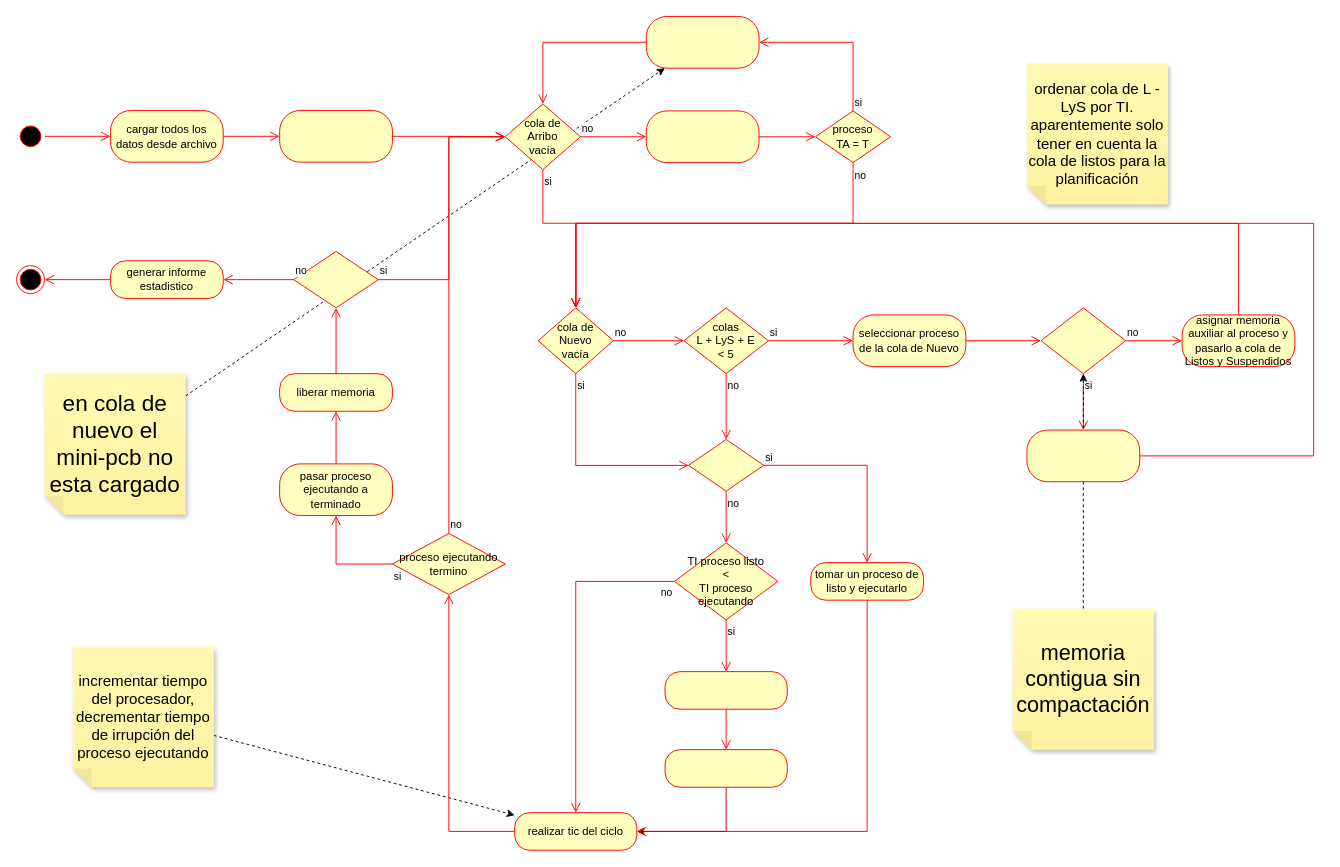
Some shapes in this 1340 by 867 pixel diagram are drawn without their labels. The centre of each missing label's shape, as x and y in pixels:
"asignar memoria principal al proceso y pasarlo a cola de Listos" goes at (1083,455).
"colocar proceso en cola de Nuevo" goes at (702,42).
"CPU libre" goes at (726,465).
"MP tiene espacio contiguo suficiente" goes at (1083,340).
"ordenar datos por TA en cola de Arribo" goes at (335,136).
"pasar proceso ejecutando a listo" goes at (725,768).
"pasar proceso listo a ejecutando" goes at (725,690).
"quedan procesos" goes at (335,279).
"seleccionar siguiente proceso de la cola de Arribo" goes at (702,136).
